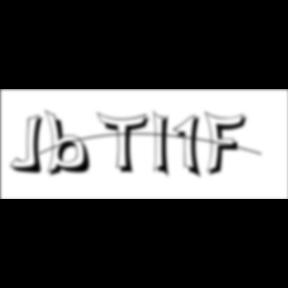1: (172, 114, 207, 182)
F: (204, 110, 252, 178)
J: (11, 114, 50, 176)
T: (97, 112, 155, 176)
b: (44, 109, 98, 179)
l: (153, 108, 176, 182)
